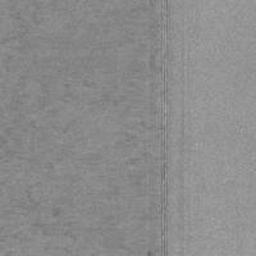Welding line: (160, 0, 169, 256)
